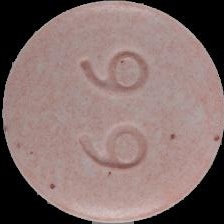50268-092: (0, 0, 224, 224)
